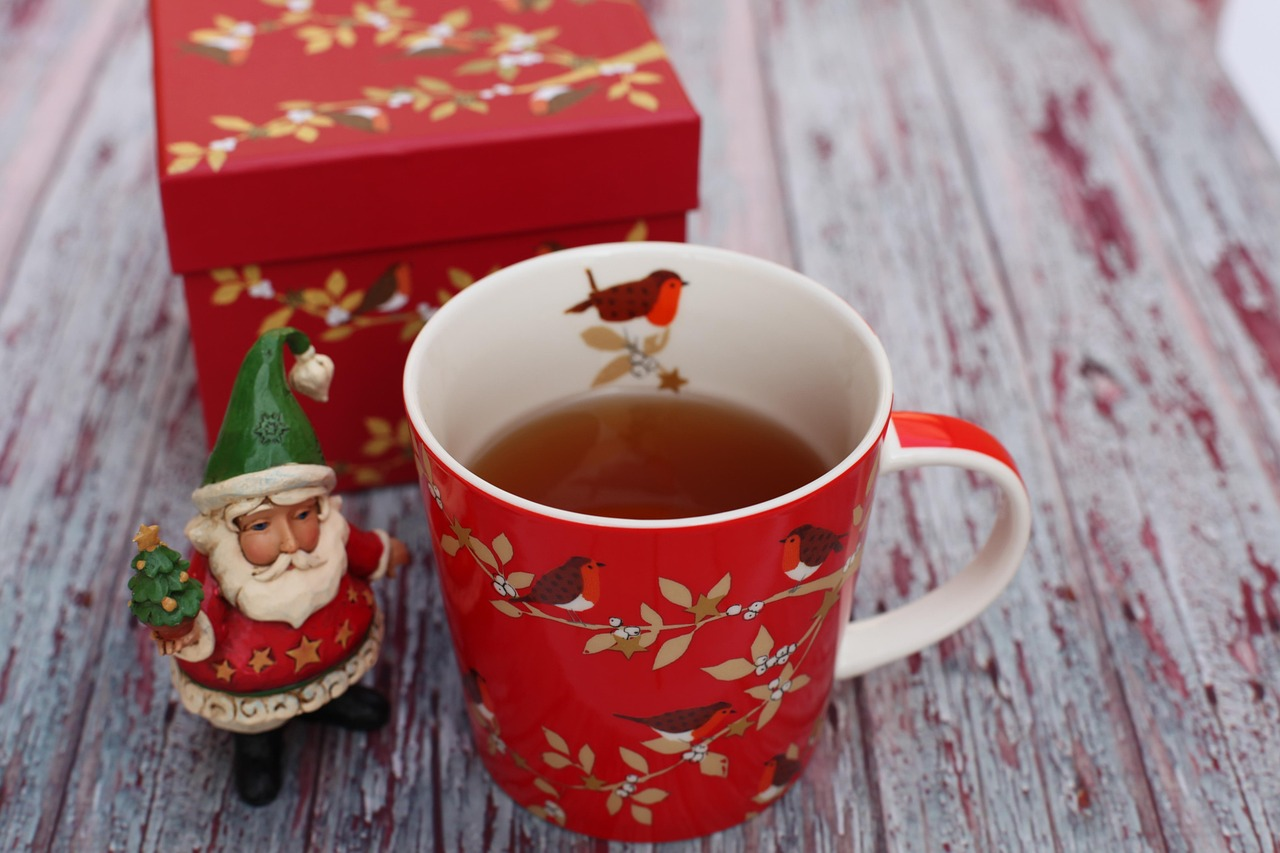mug: (346, 225, 1044, 839)
